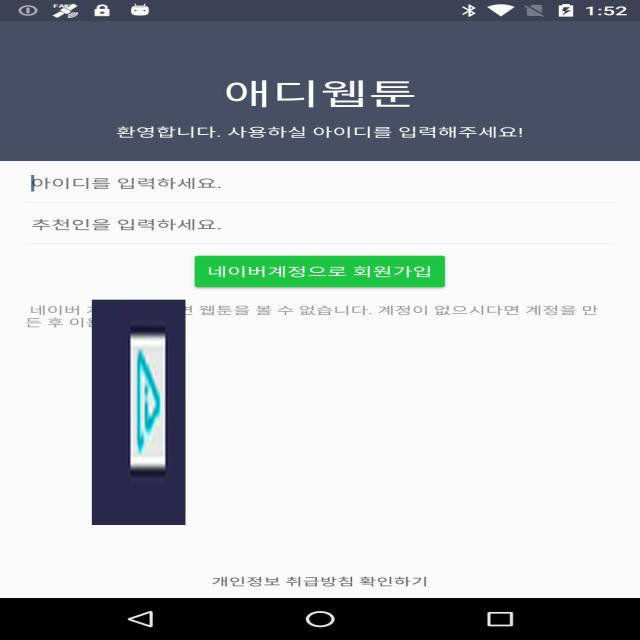sneaking: (92, 300, 185, 525)
